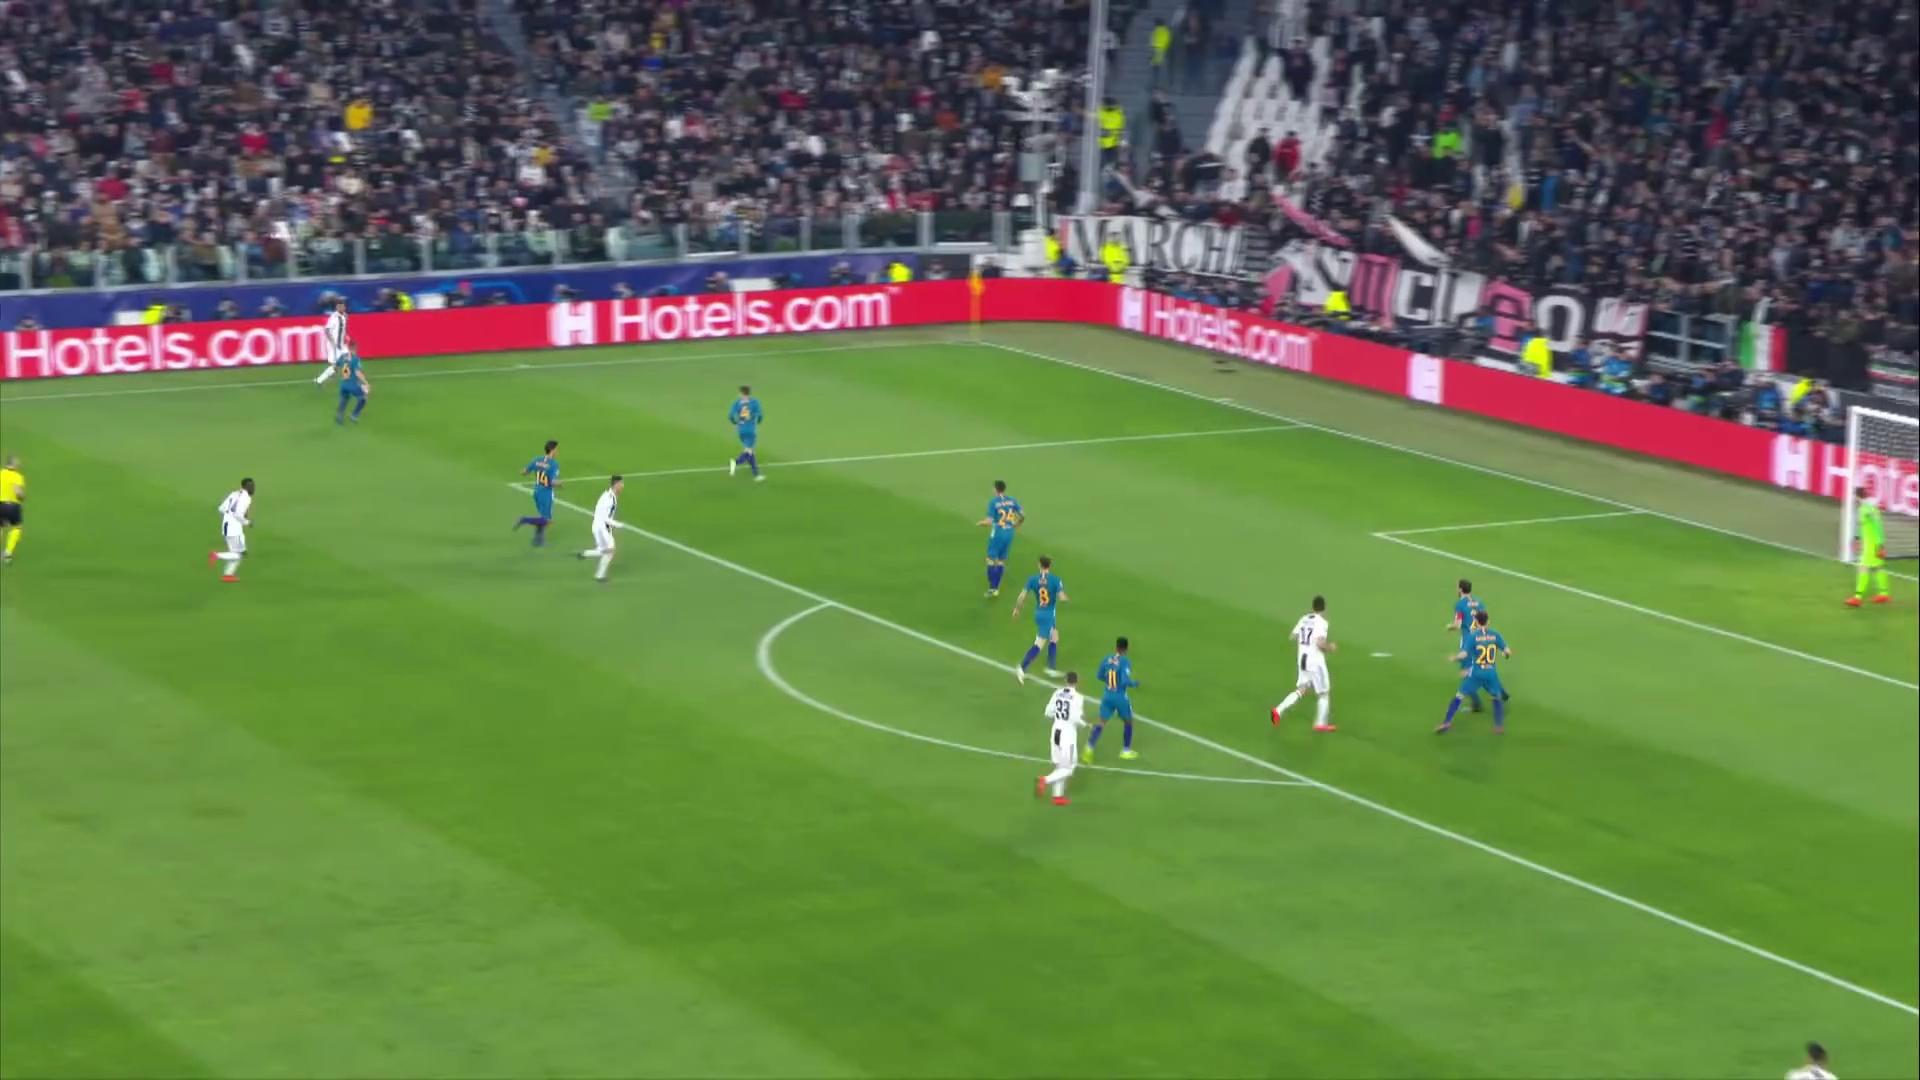ball: (355, 380, 372, 396)
